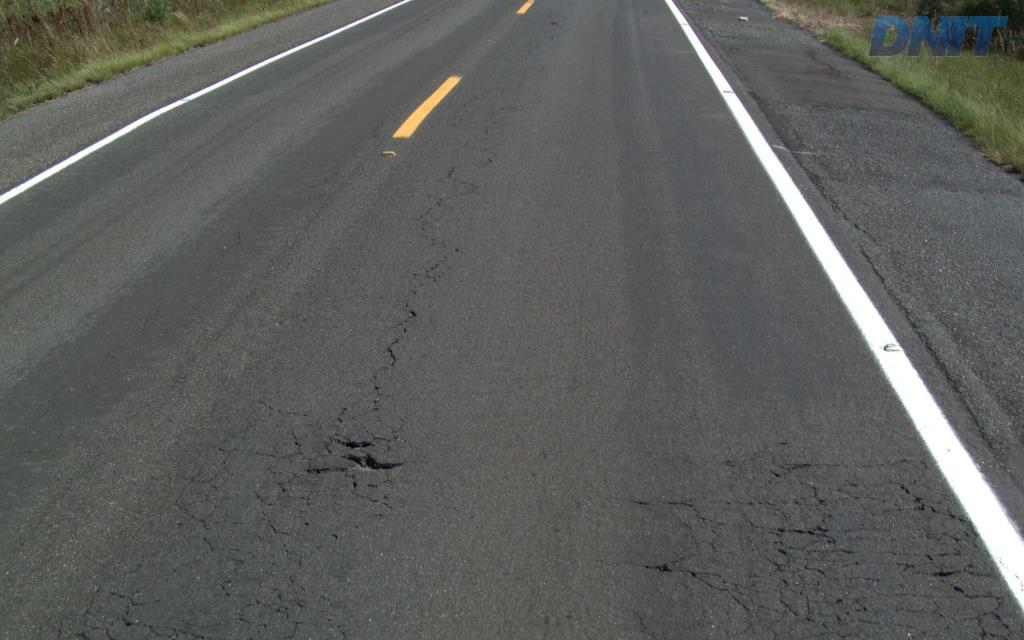crack: (769, 524, 836, 545), (340, 450, 404, 470)
